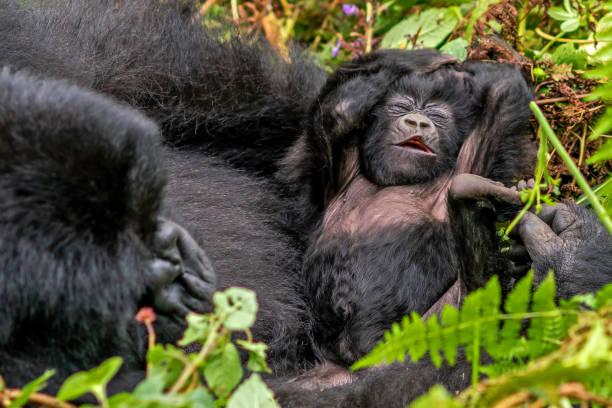goriile_montagne: (7, 0, 273, 396), (297, 37, 557, 330)
